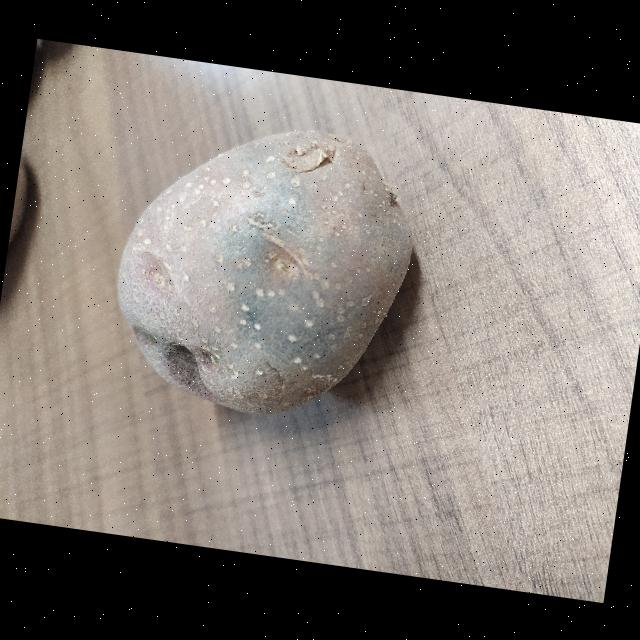Damaged potato: (106, 158, 458, 507)
